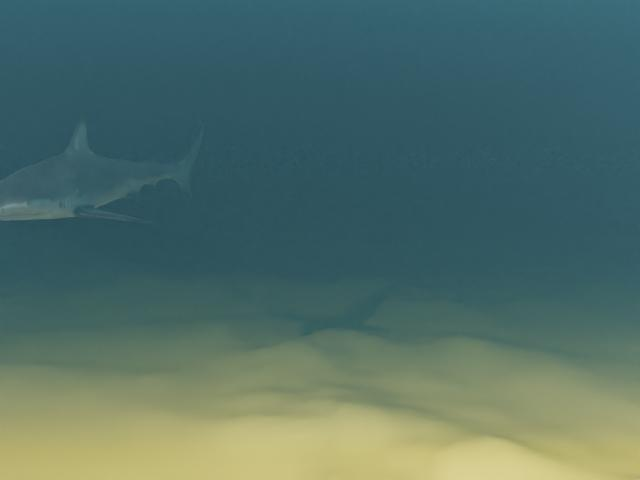Carribean Shark.001: (0, 116, 204, 223)
